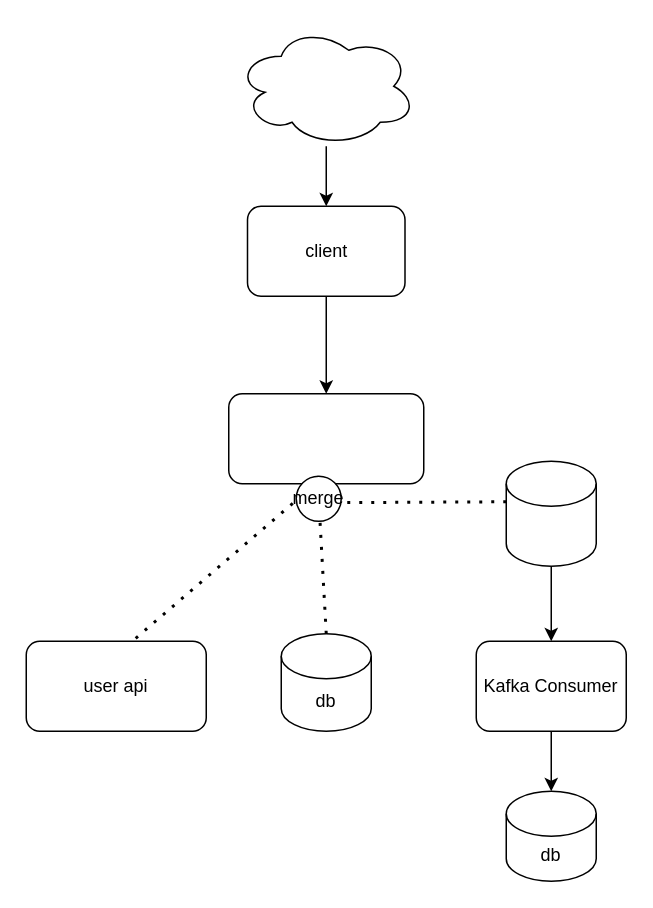
This 653x908 diagram has some shape labels left out. Each missing label, with the centre of its shape:
api-n-kafka-producer: (x=325, y=438)
Kafka Topic: (x=550, y=513)
spa: (x=325, y=85)
